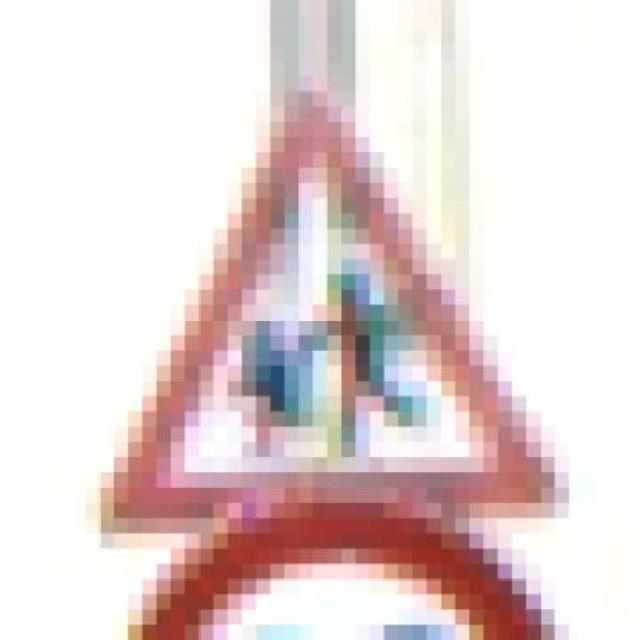Beware of children: (85, 76, 569, 533)
